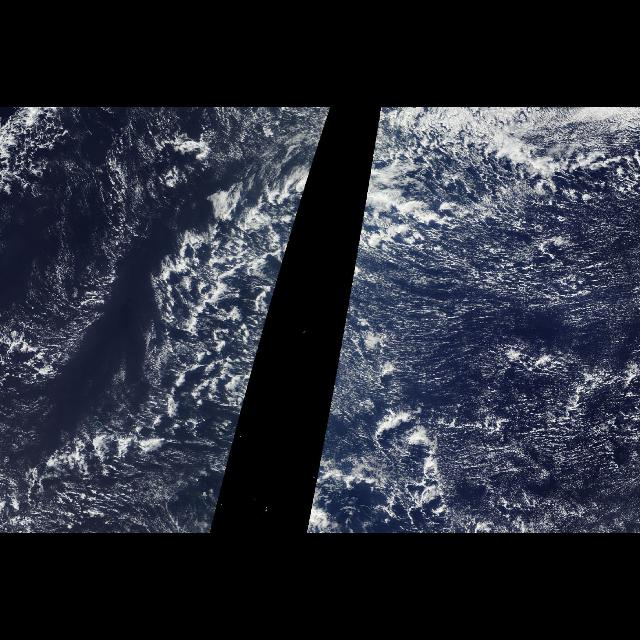Sugar: (366, 203, 636, 532)
